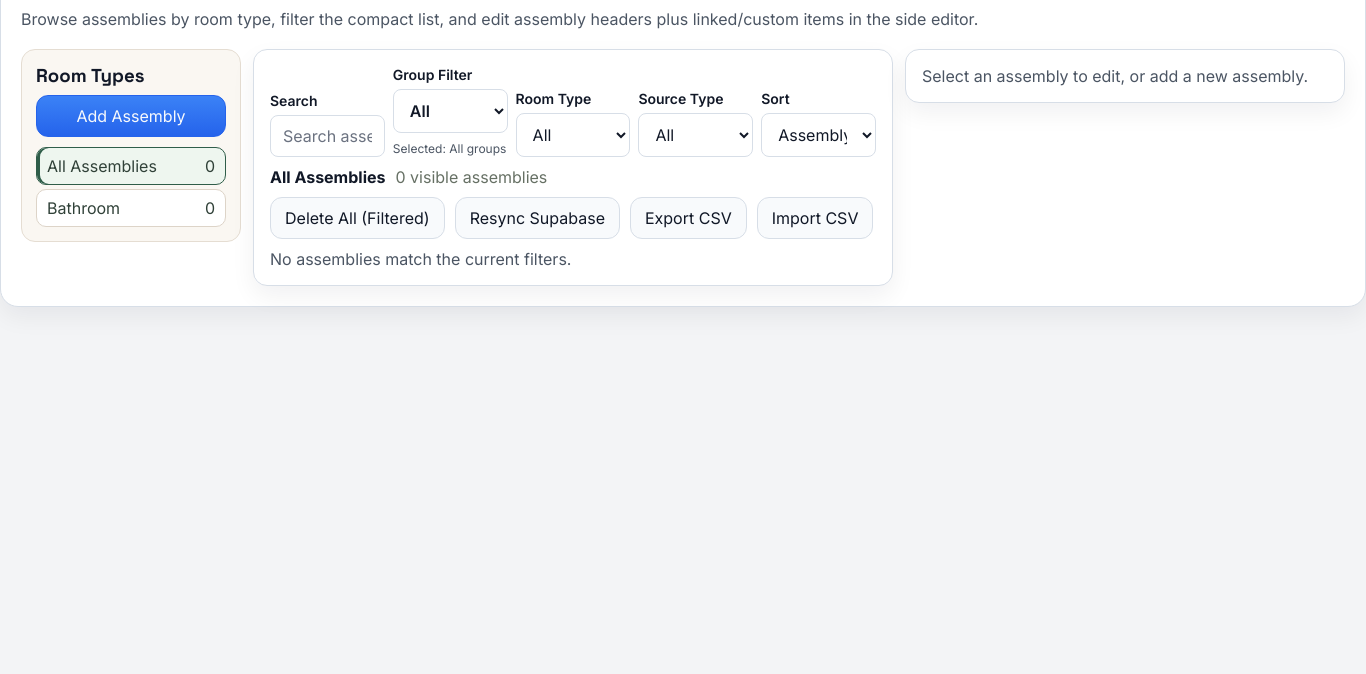
builds assembly names from structured identity fields and keeps notes collapsed by default
Click the button "Add Assembly" at [131, 116], box [36, 95, 226, 137]
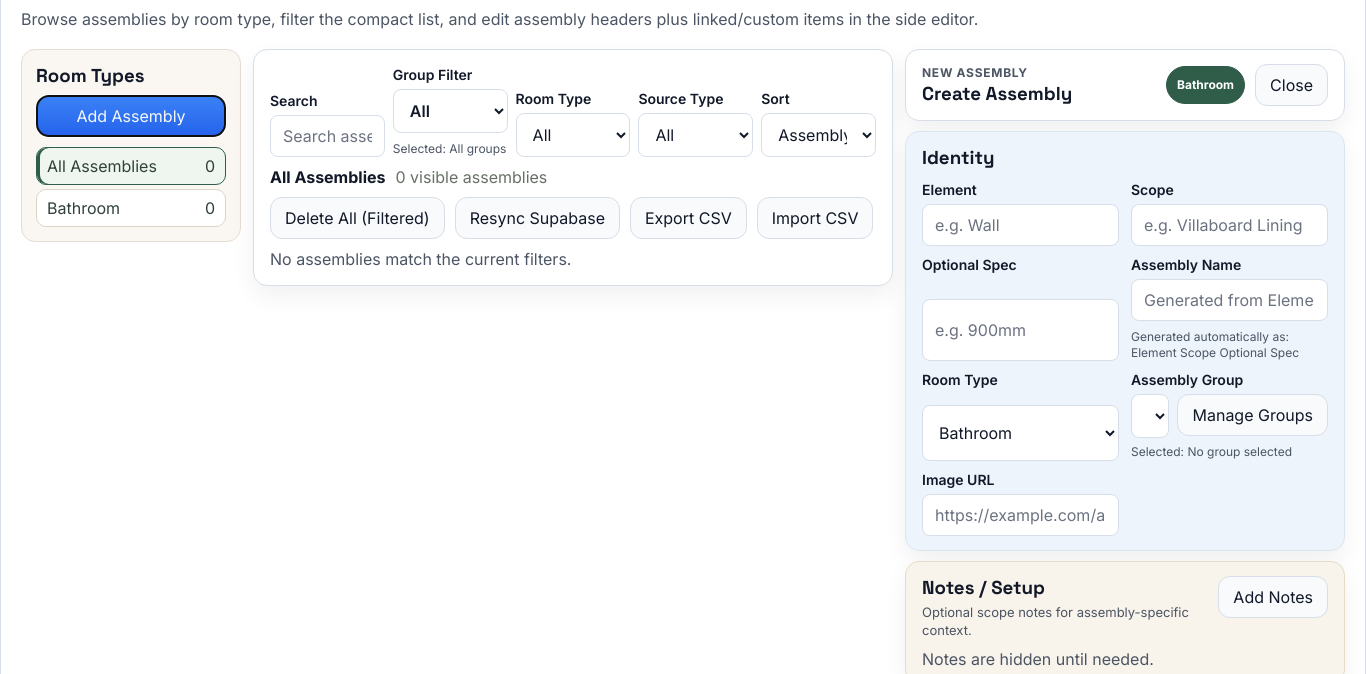
Expected: the text "Generated automatically as: Element Scope Optional Spec" is shown, [1131, 329, 1328, 361]
Type "Wall" into the field labelled "Element" at [1020, 225], box [922, 204, 1119, 246]
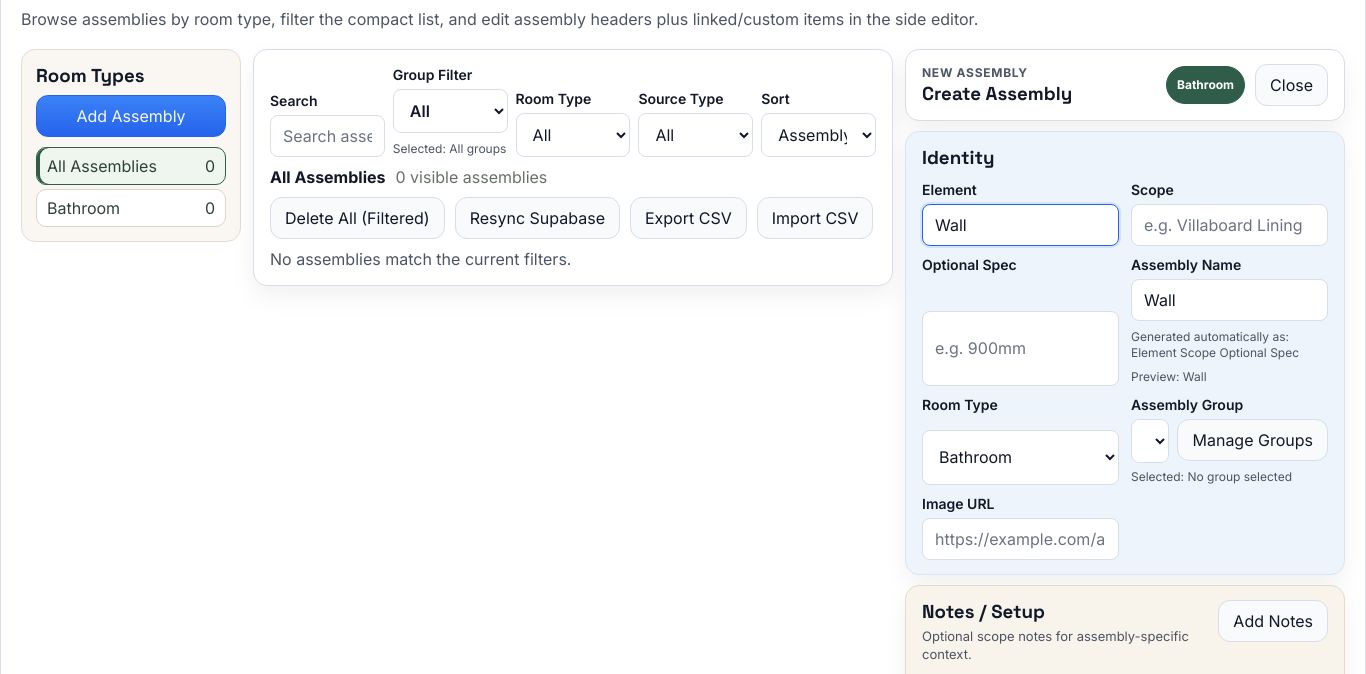
Type "Villaboard Lining" into the field labelled "Scope" at [1230, 225], box [1131, 204, 1328, 246]
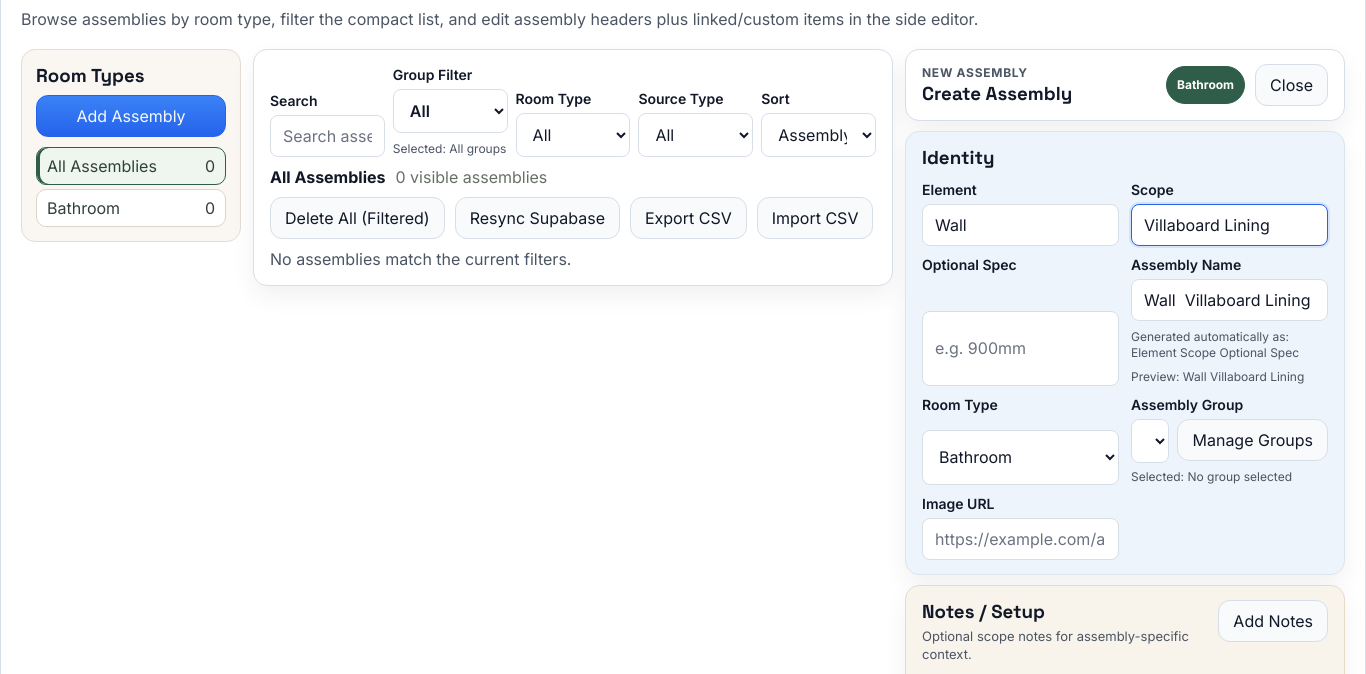
Expected: the field labelled "assembly notes" is not shown
Expected: the field labelled "Assembly Name" holds "Wall  Villaboard Lining", [1131, 279, 1328, 321]
Click the button "Add Notes" at [1273, 621], box [1218, 600, 1328, 642]
(page scrolled)
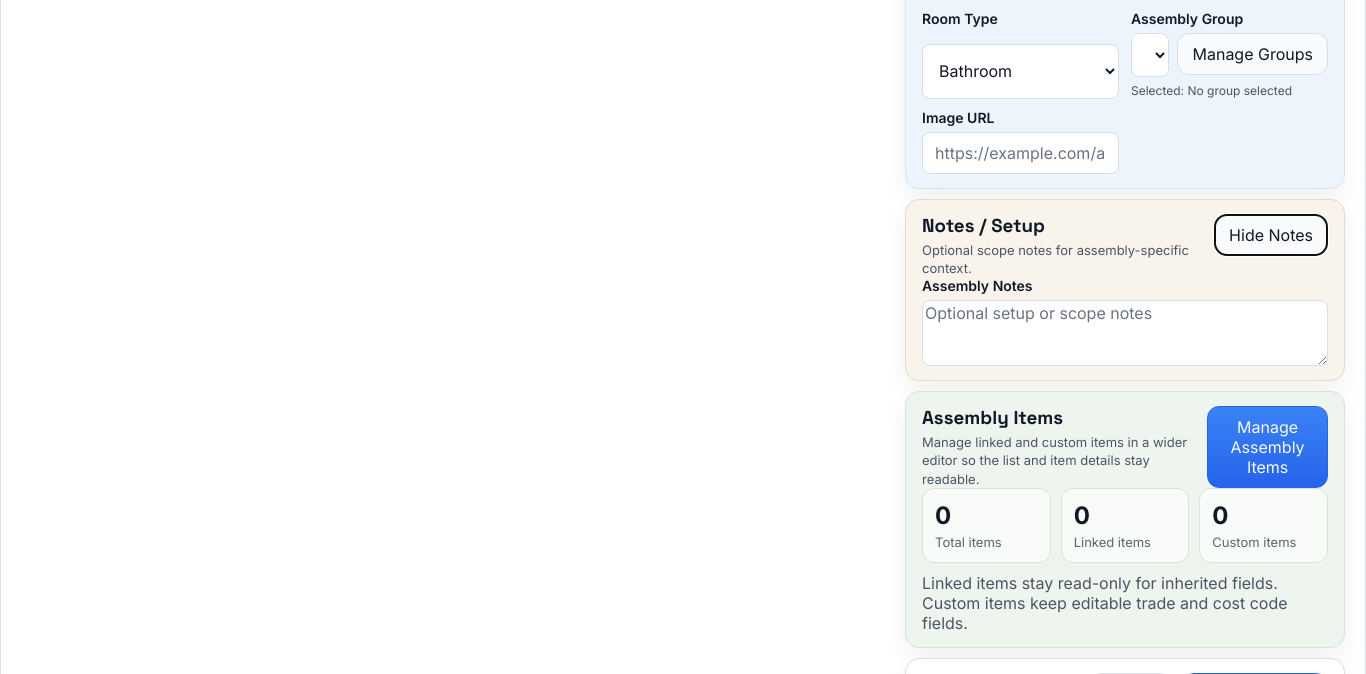
Expected: the text box labelled "Assembly Notes" is shown, [922, 300, 1328, 366]
